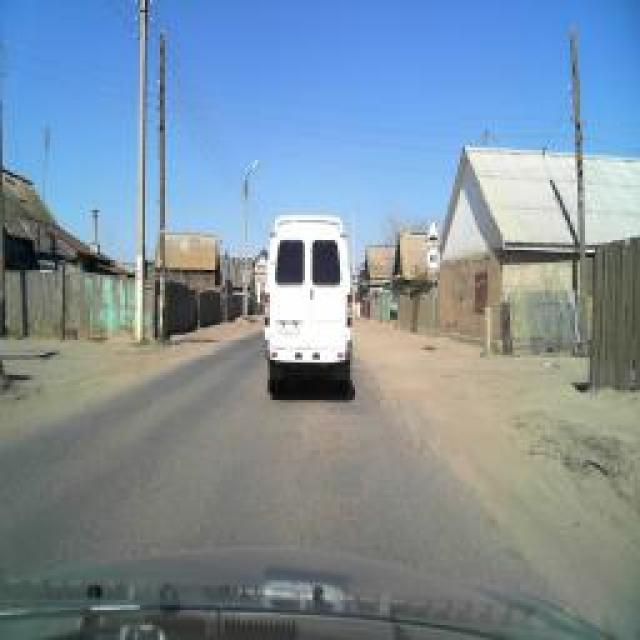sign: (425, 244, 443, 271)
